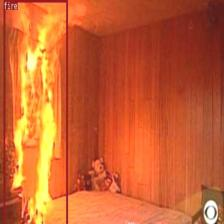fire: (3, 0, 68, 224)
